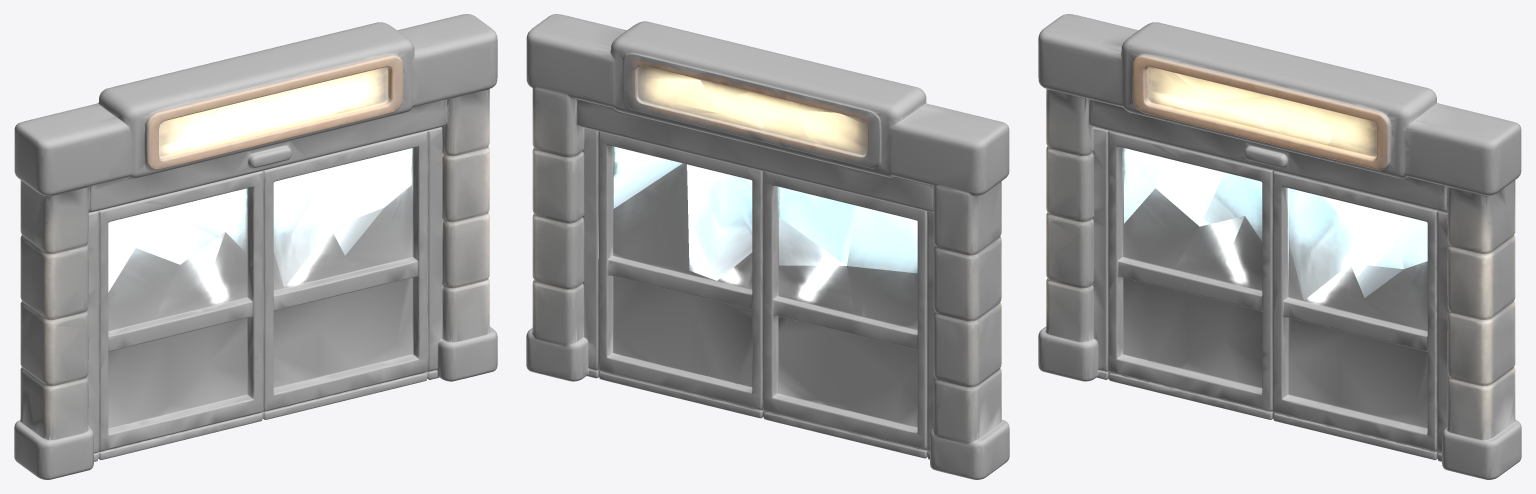
Rendered from entrance.fbx.
3 renders of one model, left to right at view 1: azimuth 30°, elevation 25°; view 2: azimuth 150°, elevation 25°; view 3: azimuth 330°, elevation 25°, orthographic.
Parts seen in each view (by area): view 1: SM_Meshy_Entrance; view 2: SM_Meshy_Entrance; view 3: SM_Meshy_Entrance.
Boxes of the visible parts, x1,y1,x2,y2 form: SM_Meshy_Entrance: (14, 14, 497, 479); SM_Meshy_Entrance: (526, 14, 1009, 479); SM_Meshy_Entrance: (1038, 14, 1521, 479).
Size of the model in its own units: 3.38 by 2.47 by 0.4638.
